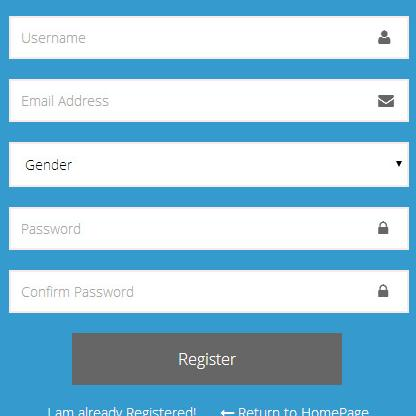button: (70, 331, 343, 386)
field: (6, 14, 412, 61), (6, 77, 411, 124), (6, 269, 411, 314), (7, 206, 411, 251)
